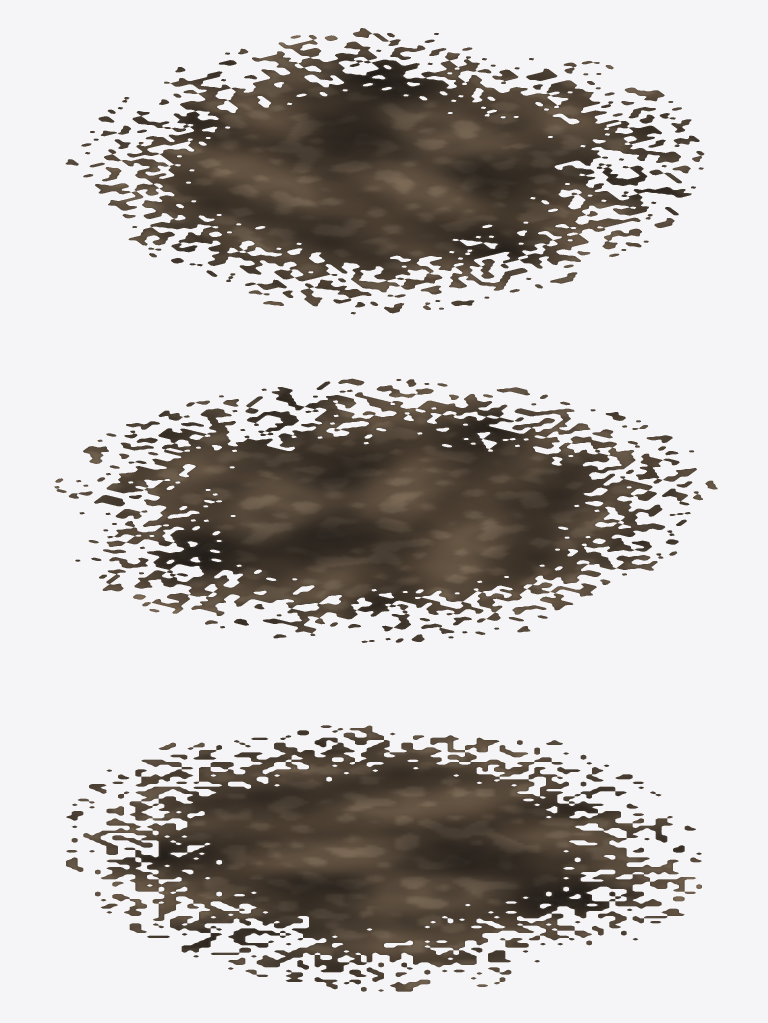
Rendered from decal_dirt_02.glb.
3 views of the same model, one above another, from view 1: azimuth 30°, elevation 25°; view 2: azimuth 150°, elevation 25°; view 3: azimuth 270°, elevation 25° (orthographic).
Visible parts, largest first — view 1: decal_dirt_02; view 2: decal_dirt_02; view 3: decal_dirt_02.
Part boxes in pixels (x1,y1,x2,y2): decal_dirt_02: [65, 28, 704, 314]; decal_dirt_02: [54, 378, 717, 642]; decal_dirt_02: [66, 725, 701, 991].
Size of the model in its own units: 1.05 by 0 by 1.05.
1 material, 1 textured.
